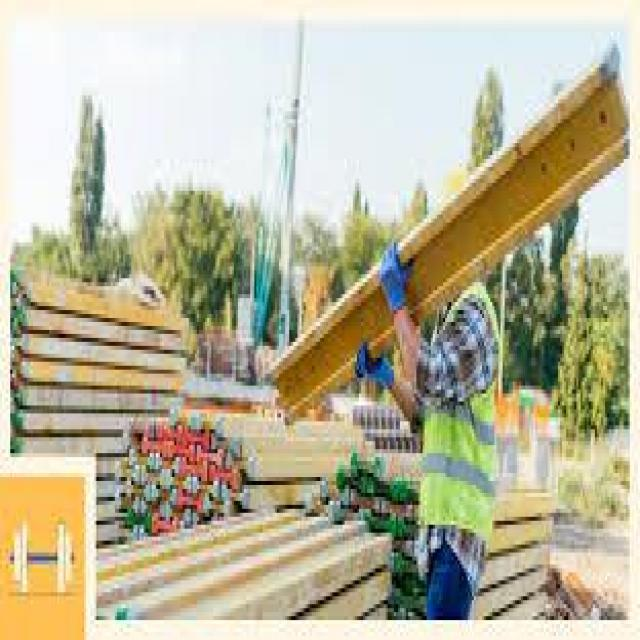Reflective-Jacket: (410, 278, 513, 560)
